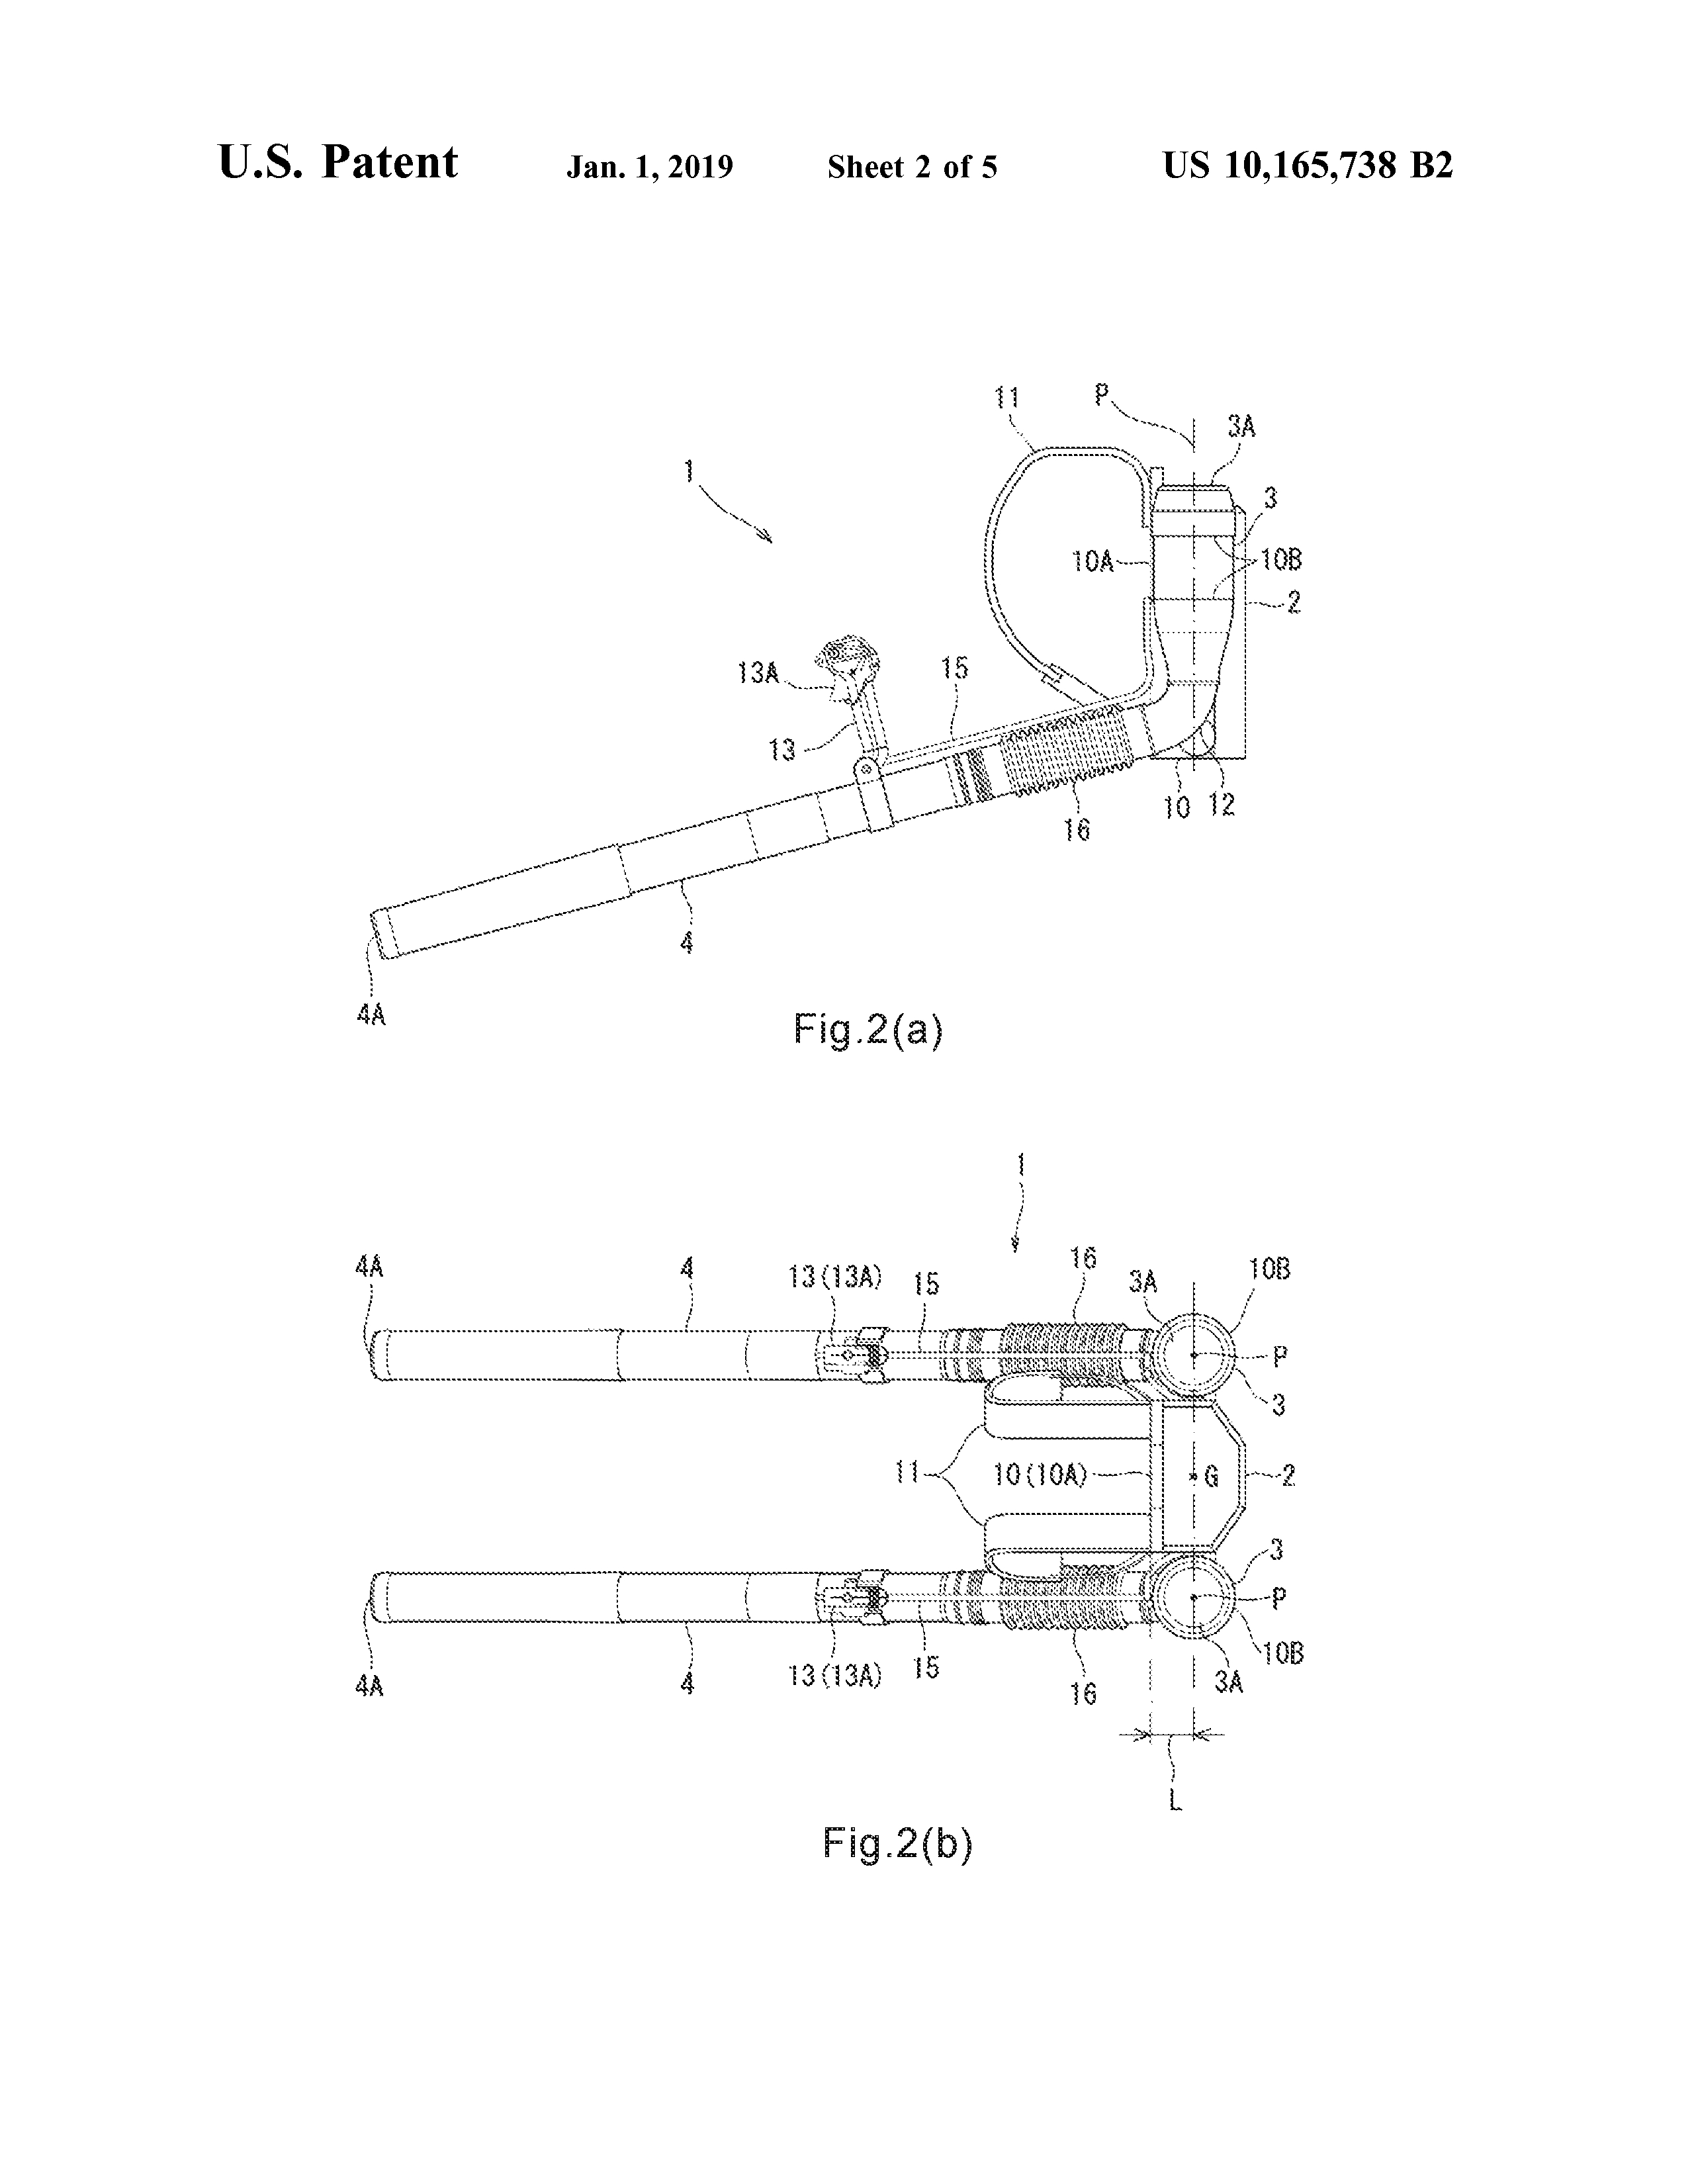patent image: (279, 1132, 1343, 1940), (339, 336, 1404, 1070)
